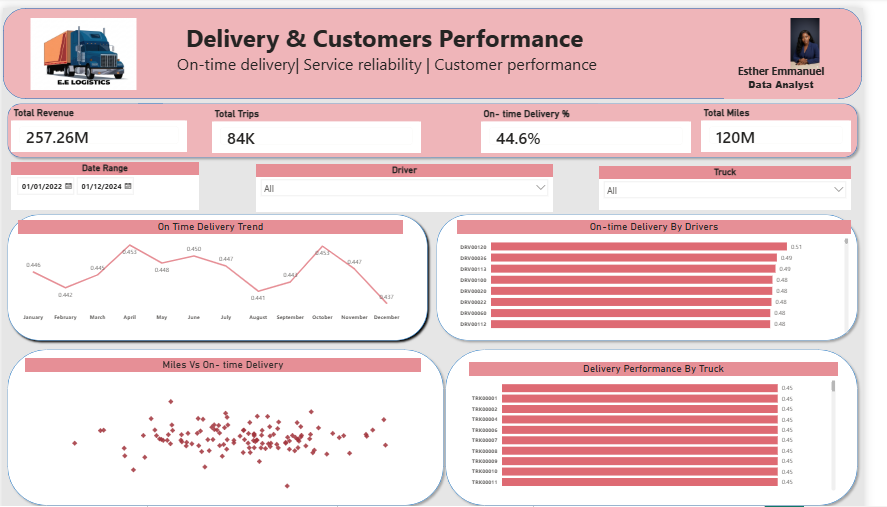

What the dashboard file says about the page in this screenshot:
{"tool":"powerbi","page":{"name":"Delivery & Customers Performance","canvas":[1720,2200],"ordinal":3},"visuals":[{"type":"shape","box":[0,0,1718,182],"z":0},{"type":"image","box":[0,20,322,144],"z":1000},{"type":"textbox","box":[294,20,948,144],"z":2000},{"type":"shape","box":[0,182,1718,126],"z":3000},{"type":"cardVisual","title":"Total Revenue","fields":{"Data":["DateTable.Total Revenue"]},"box":[16,198,352,90],"z":4000},{"type":"cardVisual","title":"Total Trips","fields":{"Data":["DateTable.Total Trips"]},"box":[418,200,418,90],"z":5000},{"type":"cardVisual","title":"On- time Delivery %","fields":{"Data":["Avg(driver_monthly_metrics.on_time_delivery_rate)"]},"box":[956,200,420,90],"z":6000},{"type":"cardVisual","title":"Total Miles","fields":{"Data":["DateTable.Total Miles"]},"box":[1396,198,300,90],"z":7000},{"type":"shape","box":[0,404,858,270],"z":8000},{"type":"lineChart","title":"On Time Delivery Trend","fields":{"Category":["DateTable.Date.Variation.Date Hierarchy.Month"],"Y":["DateTable.Avg On-Time Rate"]},"box":[30,424,770,212],"z":9000},{"type":"shape","box":[858,404,860,270],"z":10000},{"type":"shape","box":[0,674,890,330],"z":11000},{"type":"shape","box":[876,674,842,330],"z":12000},{"type":"slicer","title":"Date Range","fields":{"Values":["DateTable.Date"]},"box":[16,308,376,96],"z":13000},{"type":"slicer","title":"Driver","fields":{"Values":["driver_monthly_metrics.driver_id"]},"box":[506,312,594,96],"z":14000},{"type":"slicer","title":"Truck","fields":{"Values":["trucks.truck_id"]},"box":[1192,316,504,88],"z":15000},{"type":"textbox","box":[1442,106,228,76],"z":16000},{"type":"image","box":[1546,20,116,102],"z":17000},{"type":"clusteredBarChart","title":"On-time Delivery By Drivers","fields":{"Y":["DateTable.Avg On-Time Rate"],"Category":["driver_monthly_metrics.driver_id"]},"box":[908,424,788,232],"z":18000},{"type":"clusteredBarChart","title":"Delivery Performance By Truck","fields":{"Y":["Avg(driver_monthly_metrics.on_time_delivery_rate)"],"Category":["trips.truck_id"]},"box":[932,708,738,262],"z":19000},{"type":"scatterChart","title":"Miles Vs On- time Delivery","fields":{"Category":["driver_monthly_metrics.driver_id"],"X":["DateTable.Total Miles"],"Y":["Avg(driver_monthly_metrics.on_time_delivery_rate)"]},"box":[44,700,792,280],"z":20000}]}

Visuals, with their boxes on the page's 1720x2200 design canvas (x1, y1, x2, y2). These are canvas units, not pixel positions in the 887x507 screenshot, which may show the page scaled, cropped or inside an application window:
shape: 0/0/1718/182
image: 0/20/322/164
textbox: 294/20/1242/164
shape: 0/182/1718/308
"Total Revenue" cardVisual: 16/198/368/288
"Total Trips" cardVisual: 418/200/836/290
"On- time Delivery %" cardVisual: 956/200/1376/290
"Total Miles" cardVisual: 1396/198/1696/288
shape: 0/404/858/674
"On Time Delivery Trend" lineChart: 30/424/800/636
shape: 858/404/1718/674
shape: 0/674/890/1004
shape: 876/674/1718/1004
"Date Range" slicer: 16/308/392/404
"Driver" slicer: 506/312/1100/408
"Truck" slicer: 1192/316/1696/404
textbox: 1442/106/1670/182
image: 1546/20/1662/122
"On-time Delivery By Drivers" clusteredBarChart: 908/424/1696/656
"Delivery Performance By Truck" clusteredBarChart: 932/708/1670/970
"Miles Vs On- time Delivery" scatterChart: 44/700/836/980
